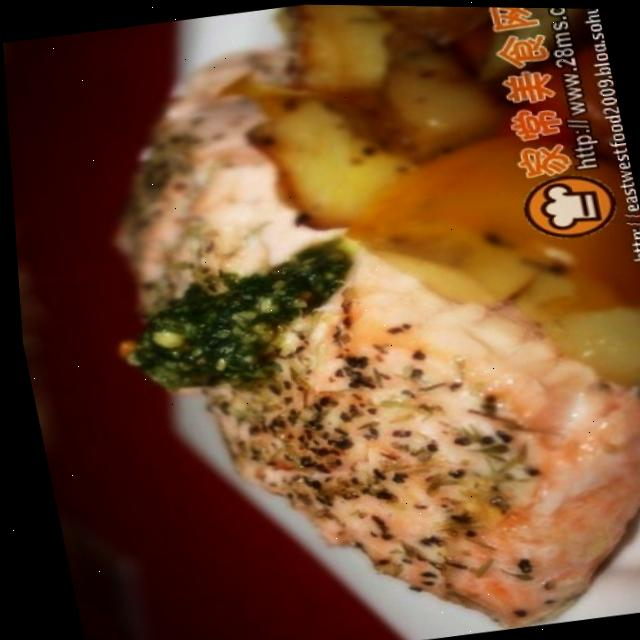熟制海鲜: (17, 0, 640, 640)
